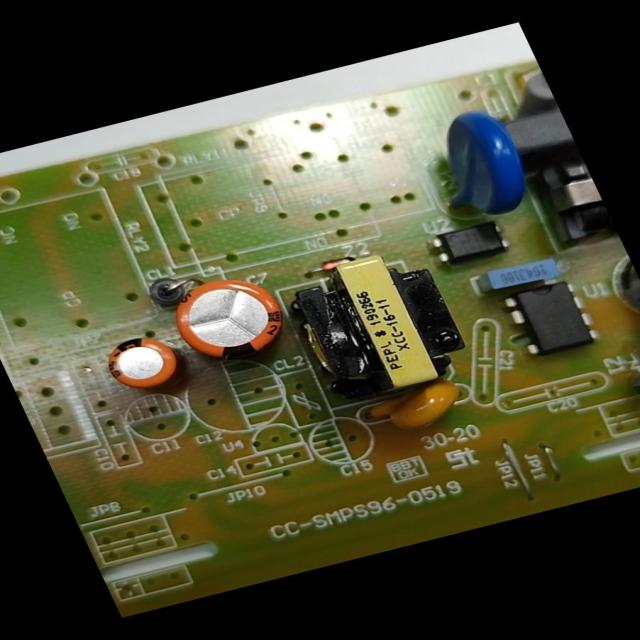Cap1: (152, 264, 311, 376)
Cap2: (86, 326, 193, 402)
MOSFET: (491, 271, 611, 365)
Mov: (402, 101, 551, 234)
Resistor: (496, 65, 562, 126)
Transformer: (258, 237, 491, 420), (512, 146, 620, 257)
